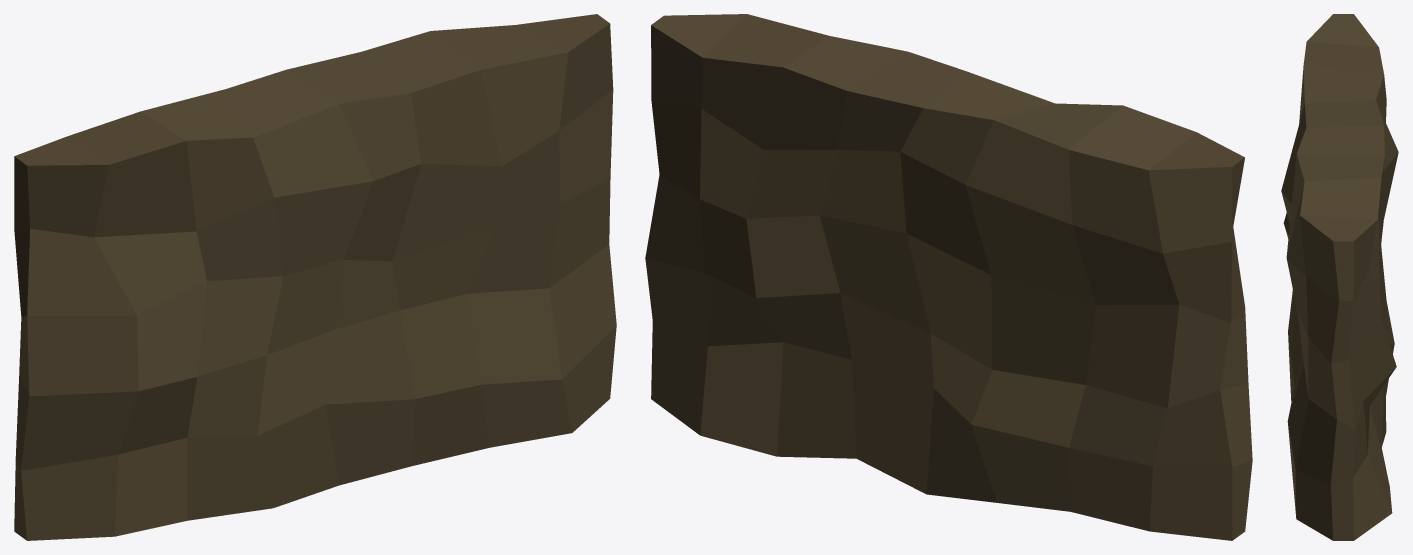
Rendered from MidWall.1.fbx.
3 renders of one model, left to right at view 1: azimuth 30°, elevation 25°; view 2: azimuth 150°, elevation 25°; view 3: azimuth 270°, elevation 25°, orthographic. The views are drawn at different scales.
Parts seen in each view (by area): view 1: Mid_Wall.1; view 2: Mid_Wall.1; view 3: Mid_Wall.1.
Boxes of the visible parts, bbox=[...] form: Mid_Wall.1: bbox=[14, 14, 616, 540]; Mid_Wall.1: bbox=[645, 14, 1252, 540]; Mid_Wall.1: bbox=[1281, 14, 1398, 540].
Bounding box in the file's own units: 1330 × 831 × 284.
